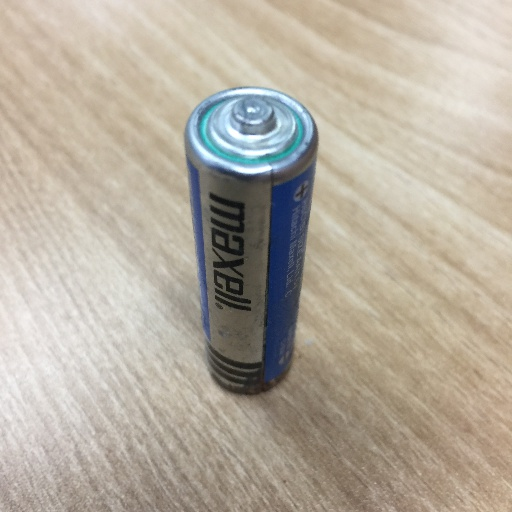Battery_0: (166, 75, 319, 408)
